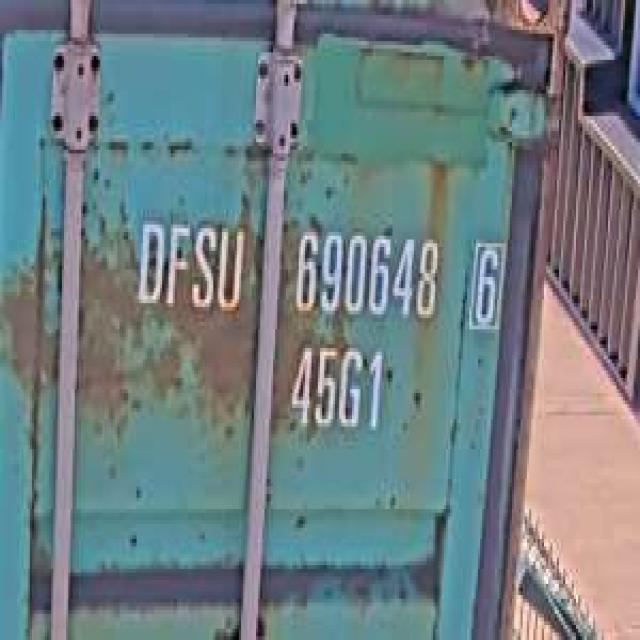dv: (467, 228, 506, 337)
owner: (132, 210, 245, 326)
serial: (284, 217, 442, 329)
size: (284, 333, 384, 442)
